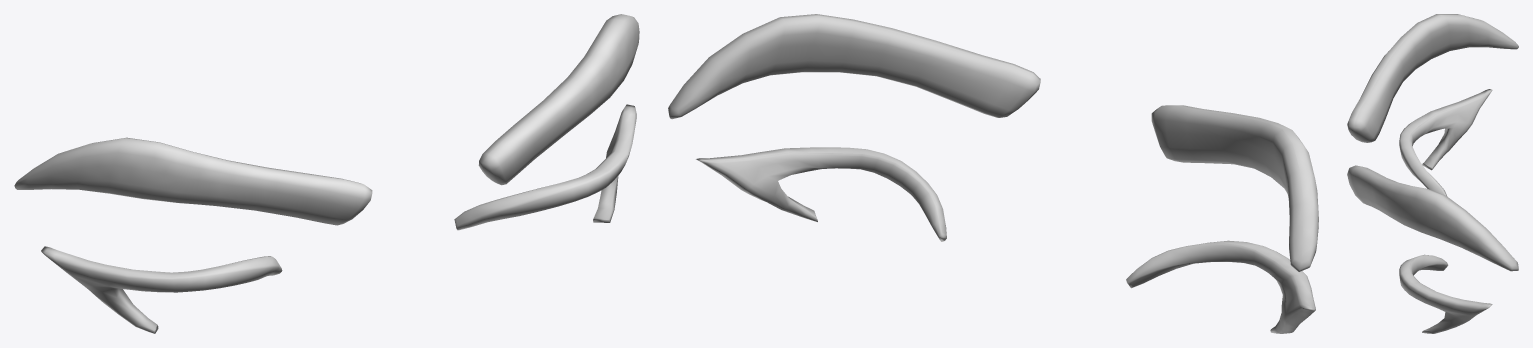
The model's file is brows_02.glb.
3 renders of one model, left to right at view 1: azimuth 30°, elevation 25°; view 2: azimuth 150°, elevation 25°; view 3: azimuth 270°, elevation 25°, orthographic. The views are drawn at different scales.
Parts seen in each view (by area): view 1: brows_02; view 2: brows_02; view 3: brows_02.
Part boxes in pixels (left/top/right/bottom): brows_02: left=14, top=14, right=639, bottom=333; brows_02: left=668, top=14, right=1318, bottom=333; brows_02: left=1347, top=14, right=1518, bottom=333.
Size of the model in its own units: 0.126 by 0.0376 by 0.0403.
Materials: 1 (1 with a texture image).
